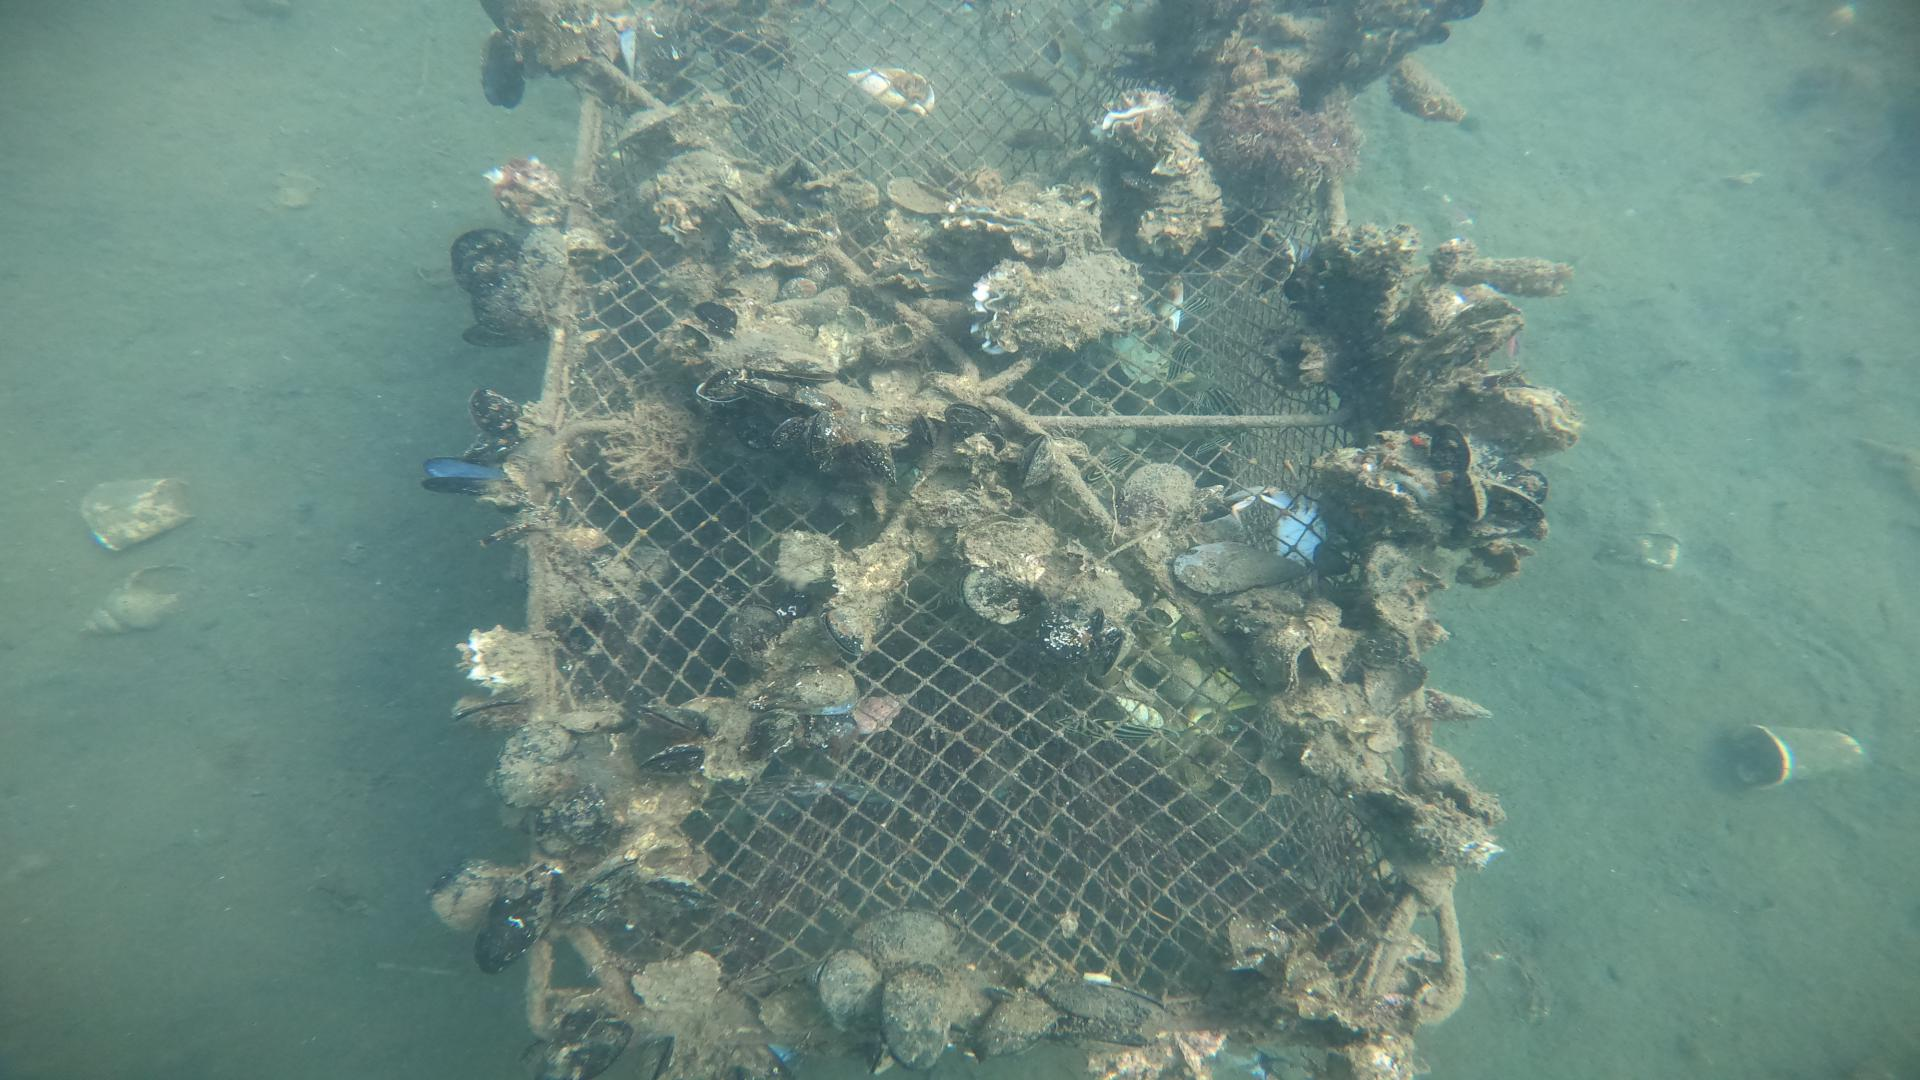rectangular fish trap: (520, 1, 1472, 1040)
